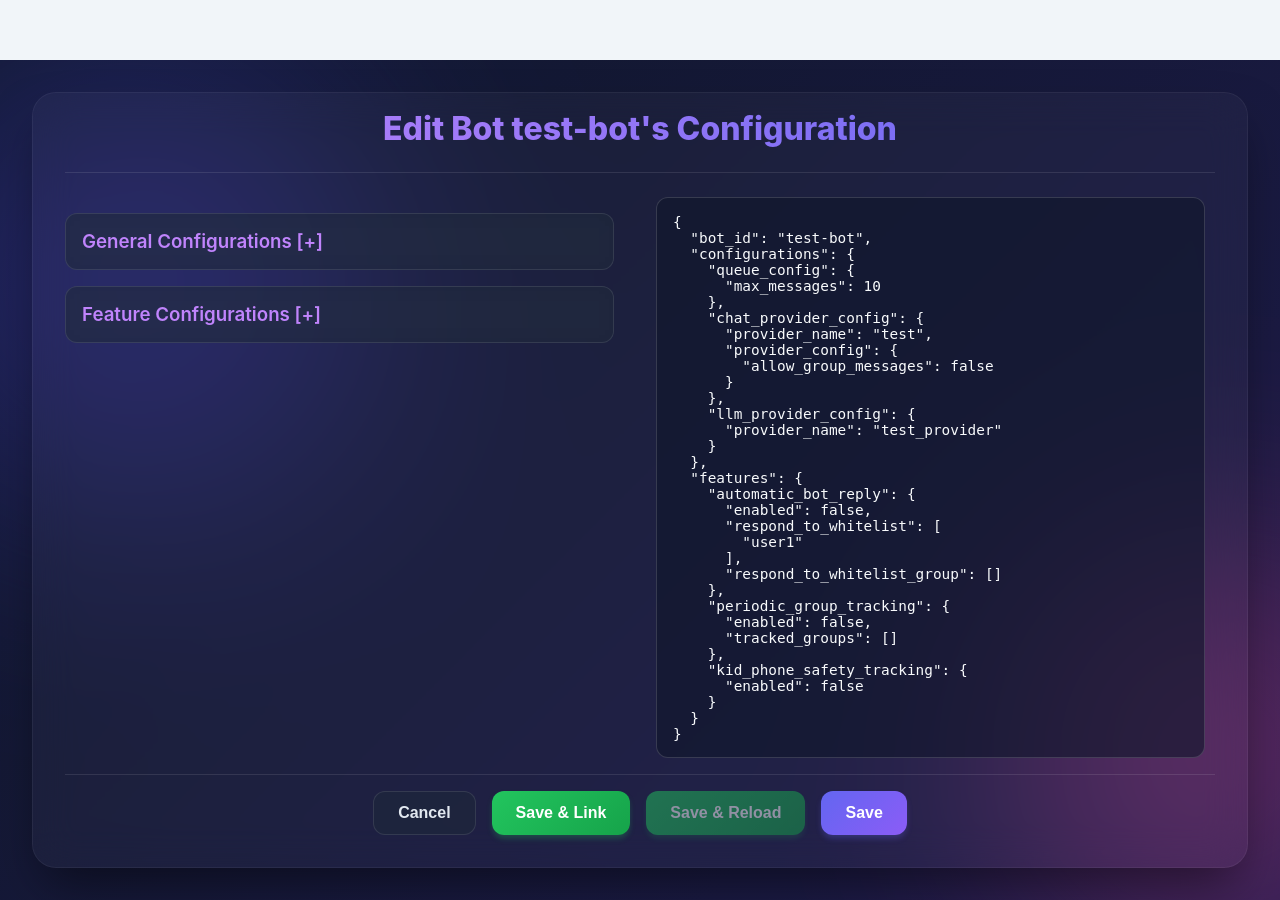
renders Feature Configurations with all three features
The image size is (1280, 900).
// Expand Feature Configurations
Click the heading "Feature Configurations [+]" at [202, 314], box [82, 303, 321, 326]
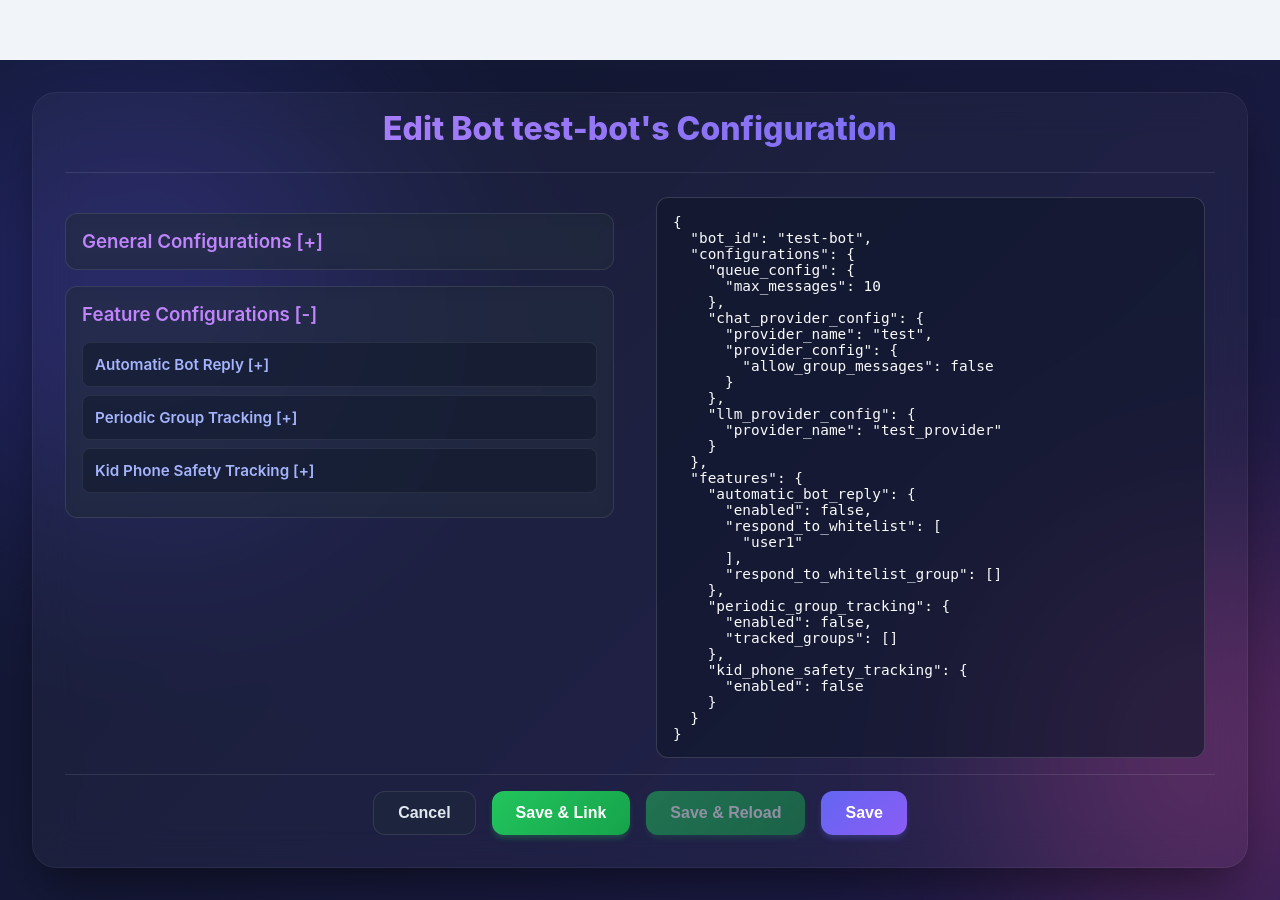
Check: the heading "Automatic Bot Reply [+]" is shown, box [95, 355, 269, 374]
Check: the heading "Periodic Group Tracking [+]" is shown, box [95, 408, 298, 427]
Check: the heading "Kid Phone Safety Tracking [+]" is shown, box [95, 461, 314, 480]
